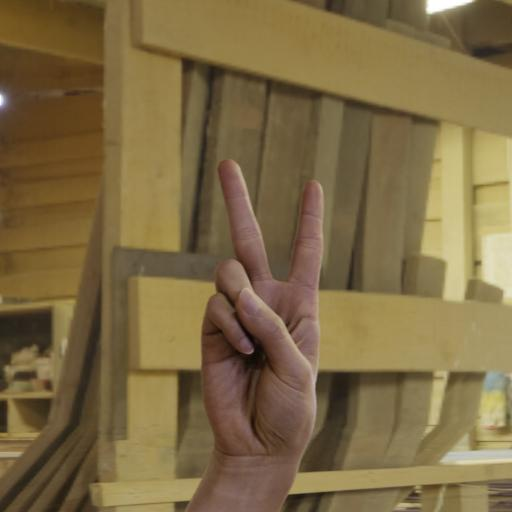V: (169, 151, 339, 512)
